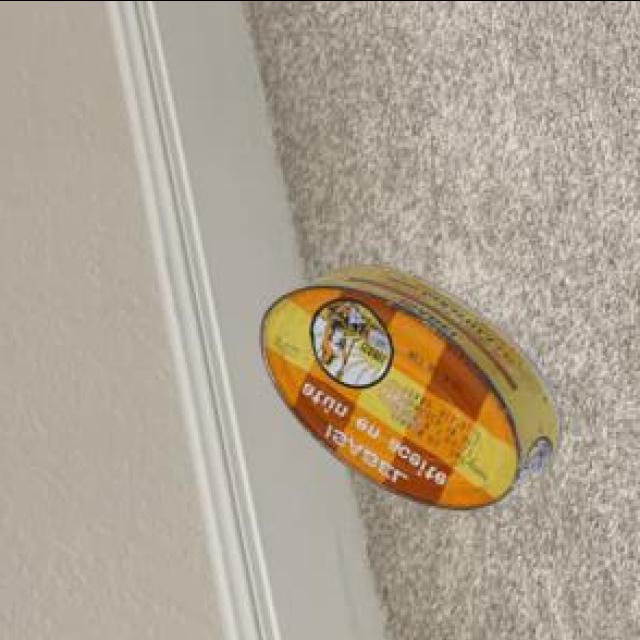logam: (260, 262, 558, 506)
